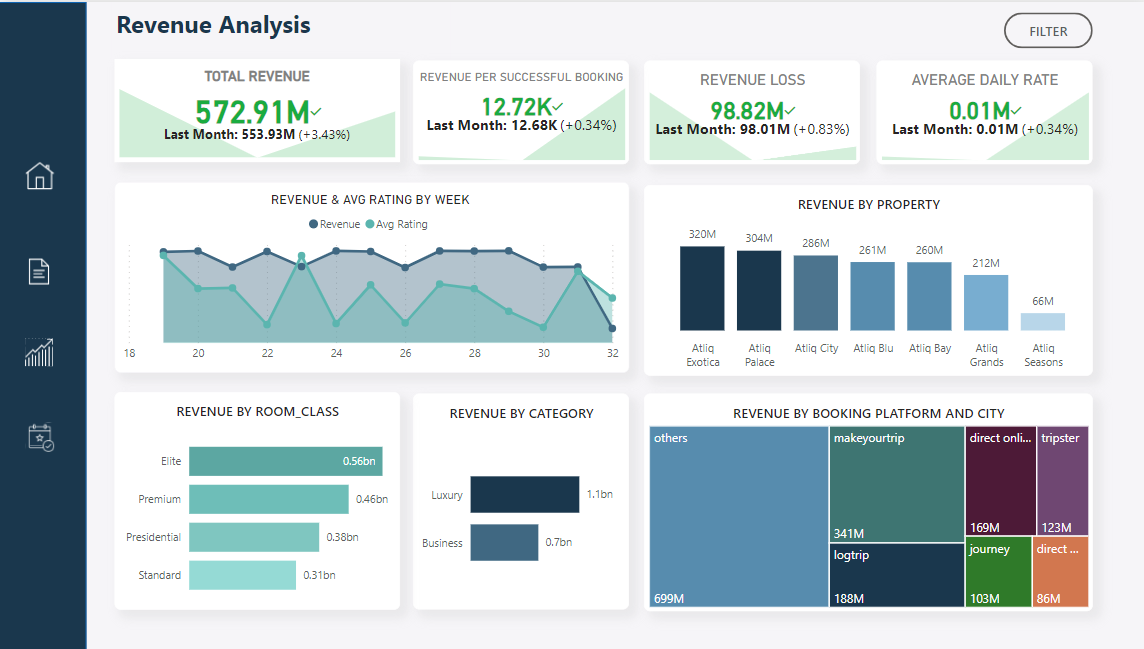

What the dashboard file says about the page in this screenshot:
{"tool":"powerbi","page":{"name":"Revenue Analysis","canvas":[1280,720],"ordinal":2},"visuals":[{"type":"shape","title":"Menu Background","box":[0,0,97.2,720.6],"z":0},{"type":"actionButton","box":[24.9,172.9,100,40.7],"z":1000},{"type":"actionButton","box":[24.9,279.7,50.9,39],"z":2000},{"type":"actionButton","box":[25.4,463.6,50.2,40.5],"z":3000},{"type":"textbox","box":[125.7,0,377,63.6],"z":4000},{"type":"kpi","title":"TOTAL REVENUE","fields":{"Indicator":["Measures Table.Revenue"],"Goal":["Measures Table.Revenue Last Month"],"TrendLine":["dim_date.month"]},"box":[127.6,63.8,317,114.4],"z":6000},{"type":"kpi","title":"REVENUE LOSS","fields":{"Indicator":["Measures Table.CANCELLATION IMPACT"],"Goal":["Measures Table.Cancellation Impact Last Month"],"TrendLine":["dim_date.month"]},"box":[716.7,65,240,115],"z":7000},{"type":"kpi","title":"AVERAGE DAILY RATE","fields":{"TrendLine":["dim_date.month"],"Goal":["Measures Table.ADR Previous Month"],"Indicator":["Measures Table.ADR_Average Daily Rate"]},"box":[975,65,240,115],"z":8000},{"type":"kpi","title":"REVENUE PER SUCCESSFUL BOOKING","fields":{"Indicator":["Measures Table.Revenue Per Successful Bookings"],"Goal":["Measures Table.Revenue Per Successful Booking LM"],"TrendLine":["dim_date.month"]},"box":[460,65,240,115],"z":9000},{"type":"areaChart","title":"REVENUE & AVG RATING BY WEEK","fields":{"Category":["dim_date.week no"],"Y":["Measures Table.Revenue"],"Y2":["Measures Table.Average Rating"]},"box":[127.6,200.7,572.2,212],"z":10000},{"type":"columnChart","title":"REVENUE BY PROPERTY","fields":{"Y":["Measures Table.Revenue"],"Category":["dim_hotels.property_name"]},"box":[716.7,203.3,498.3,211.7],"z":11000},{"type":"barChart","title":"REVENUE BY CATEGORY","fields":{"Category":["dim_hotels.category"],"Y":["Measures Table.Revenue"]},"box":[459.6,435.2,240.1,240.1],"z":12000},{"type":"barChart","title":"REVENUE BY ROOM_CLASS","fields":{"Category":["dim_rooms.room_class"],"Y":["Measures Table.Revenue"]},"box":[127.6,433.3,317,242],"z":13000},{"type":"treemap","title":"REVENUE BY BOOKING PLATFORM AND CITY","fields":{"Group":["fact_bookings.booking_platform","dim_hotels.city"],"Values":["Measures Table.Revenue"]},"box":[716.7,435,498.3,241.7],"z":14000},{"type":"actionButton","title":"Filter Button","box":[1116.6,11.1,98.6,39.8],"z":15000},{"type":"actionButton","box":[24.9,369.6,50.9,39],"z":17000}]}

Visuals, with their boxes on the page's 1280x720 design canvas (x1, y1, x2, y2). These are canvas units, not pixel positions in the 1144x649 screenshot, which may show the page scaled, cropped or inside an application window:
"Menu Background" shape: x1=0 y1=0 x2=97 y2=721
actionButton: x1=25 y1=173 x2=125 y2=214
actionButton: x1=25 y1=280 x2=76 y2=319
actionButton: x1=25 y1=464 x2=76 y2=504
textbox: x1=126 y1=0 x2=503 y2=64
"TOTAL REVENUE" kpi: x1=128 y1=64 x2=445 y2=178
"REVENUE LOSS" kpi: x1=717 y1=65 x2=957 y2=180
"AVERAGE DAILY RATE" kpi: x1=975 y1=65 x2=1215 y2=180
"REVENUE PER SUCCESSFUL BOOKING" kpi: x1=460 y1=65 x2=700 y2=180
"REVENUE & AVG RATING BY WEEK" areaChart: x1=128 y1=201 x2=700 y2=413
"REVENUE BY PROPERTY" columnChart: x1=717 y1=203 x2=1215 y2=415
"REVENUE BY CATEGORY" barChart: x1=460 y1=435 x2=700 y2=675
"REVENUE BY ROOM_CLASS" barChart: x1=128 y1=433 x2=445 y2=675
"REVENUE BY BOOKING PLATFORM AND CITY" treemap: x1=717 y1=435 x2=1215 y2=677
"Filter Button" actionButton: x1=1117 y1=11 x2=1215 y2=51
actionButton: x1=25 y1=370 x2=76 y2=409
